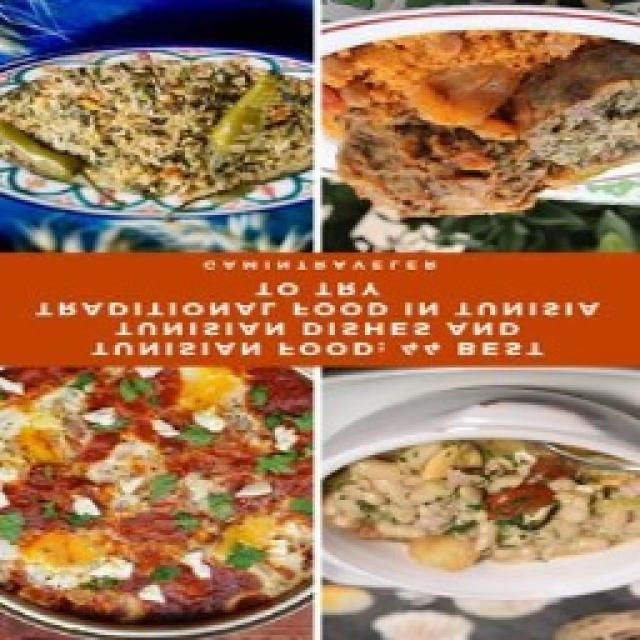Couscous: (324, 32, 640, 215)
